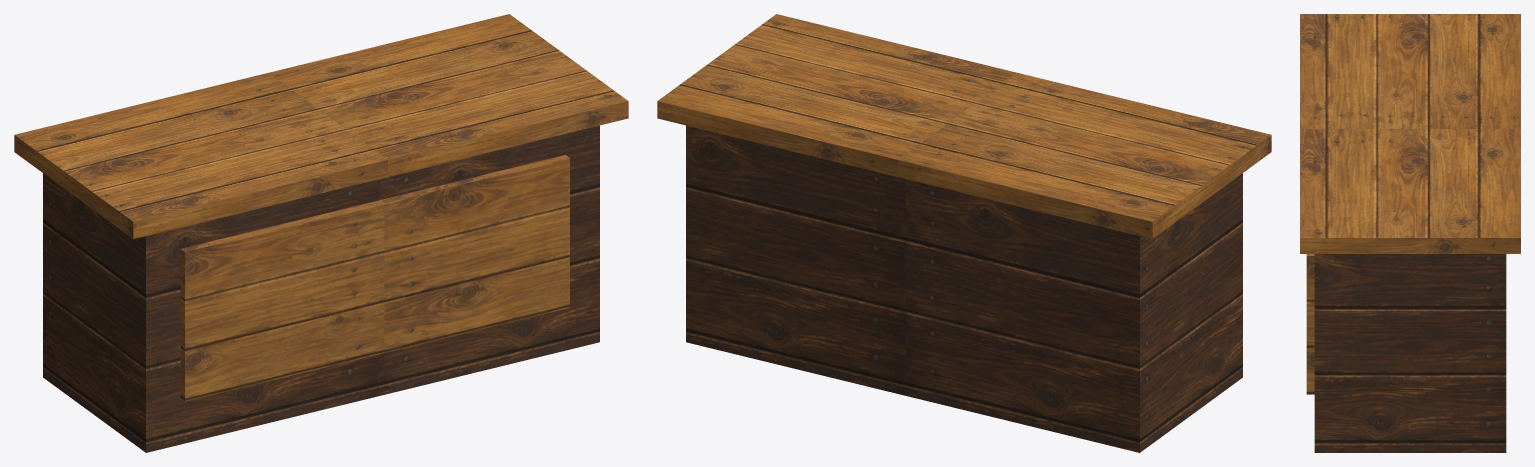
Rendered from market-stall-bay-v1.gltf.
The picture shows the model from 3 angles, left to right: view 1: azimuth 30°, elevation 25°; view 2: azimuth 150°, elevation 25°; view 3: azimuth 270°, elevation 25°; orthographic projection. The views are drawn at different scales.
Visible parts, largest first — view 1: stall-L0-wood, stall-L0-door; view 2: stall-L0-door, stall-L0-wood; view 3: stall-L0-wood, stall-L0-door.
Boxes of the visible parts, box(x1,y1,x2,y2) form: stall-L0-wood: box(14, 14, 628, 401); stall-L0-door: box(43, 125, 599, 452); stall-L0-door: box(686, 125, 1242, 452); stall-L0-wood: box(657, 14, 1271, 239); stall-L0-wood: box(1300, 14, 1520, 394); stall-L0-door: box(1314, 254, 1506, 452).
Bounding box in the file's own units: 1.8 × 0.84 × 0.75.
2 materials, 2 textured.
